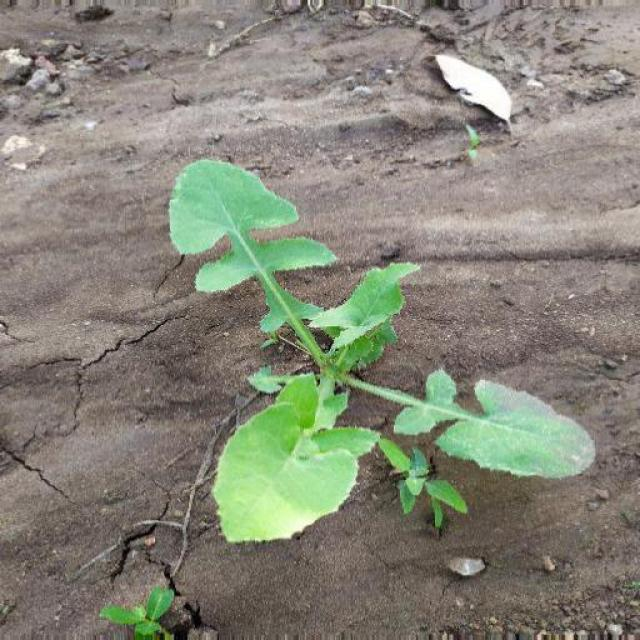weed: (149, 147, 599, 545)
